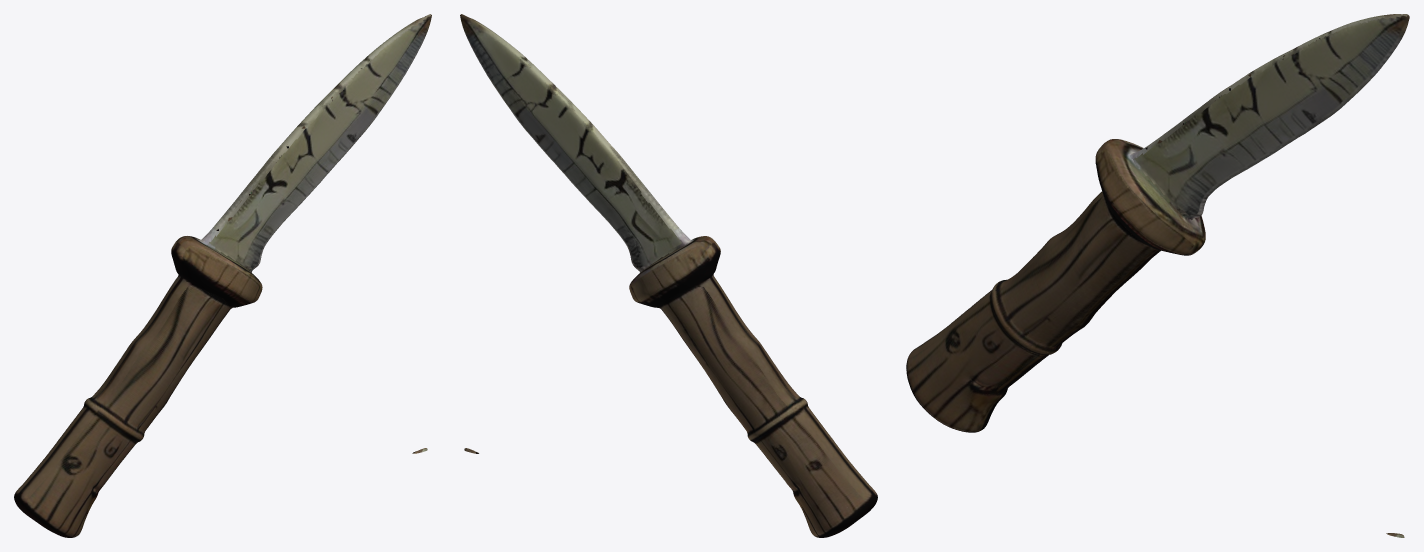
File: source-8.glb
3 views of the same model, side by side, from view 1: azimuth 30°, elevation 25°; view 2: azimuth 150°, elevation 25°; view 3: azimuth 330°, elevation 25° (orthographic). The views are drawn at different scales.
Parts seen in each view (by area): view 1: tmpe4nzn3w_.ply; view 2: tmpe4nzn3w_.ply; view 3: tmpe4nzn3w_.ply.
Boxes of the visible parts, x1,y1,x2,y2 form: tmpe4nzn3w_.ply: (14, 14, 431, 537); tmpe4nzn3w_.ply: (460, 14, 877, 537); tmpe4nzn3w_.ply: (906, 14, 1409, 537).
Bounding box in the file's own units: 1.96 × 1.97 × 0.2807.
Materials: 1 (1 with a texture image).
